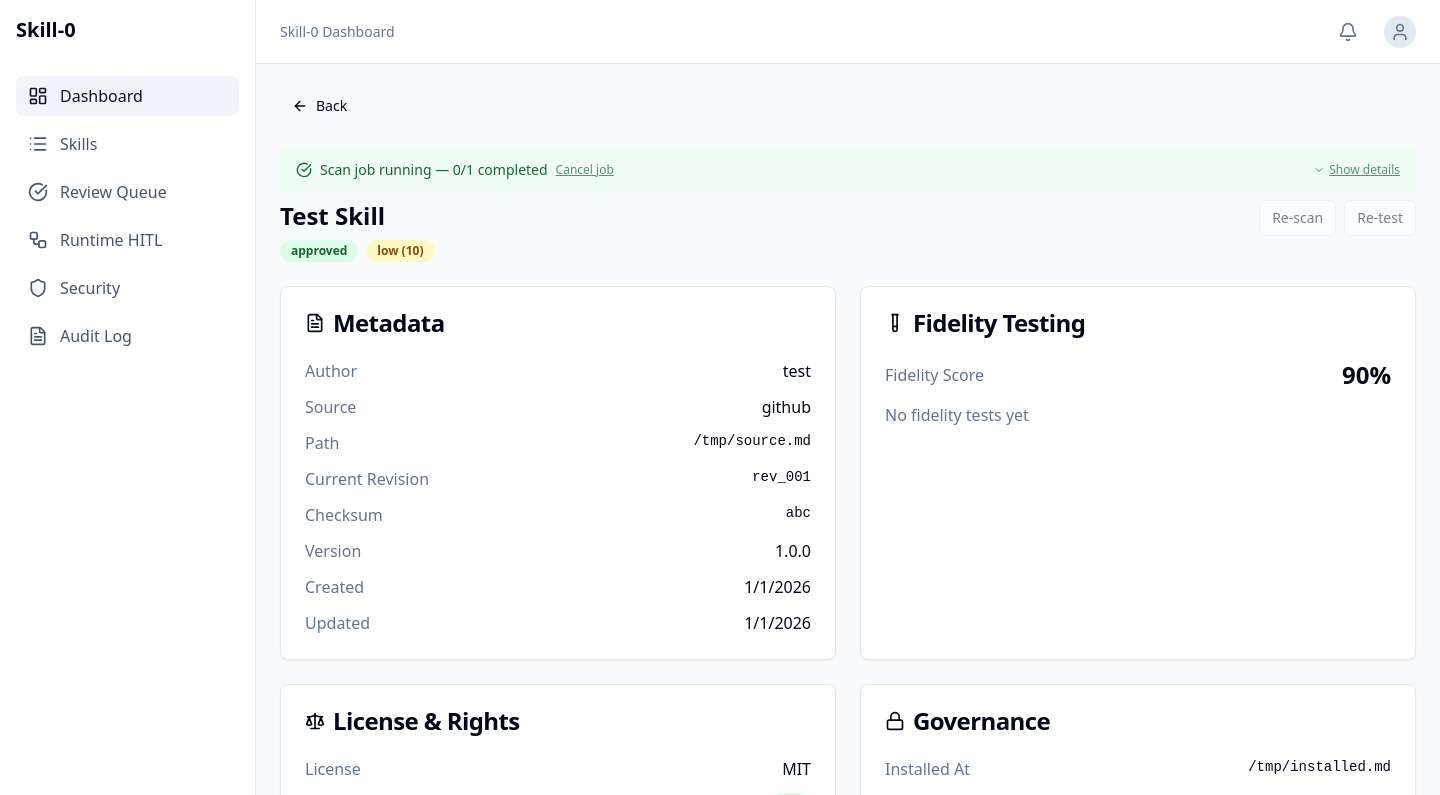
Test: SkillDetail async action jobs › cancels an active job from the detail page
Click the button "Cancel job" at (585, 170), box [556,162,614,178]
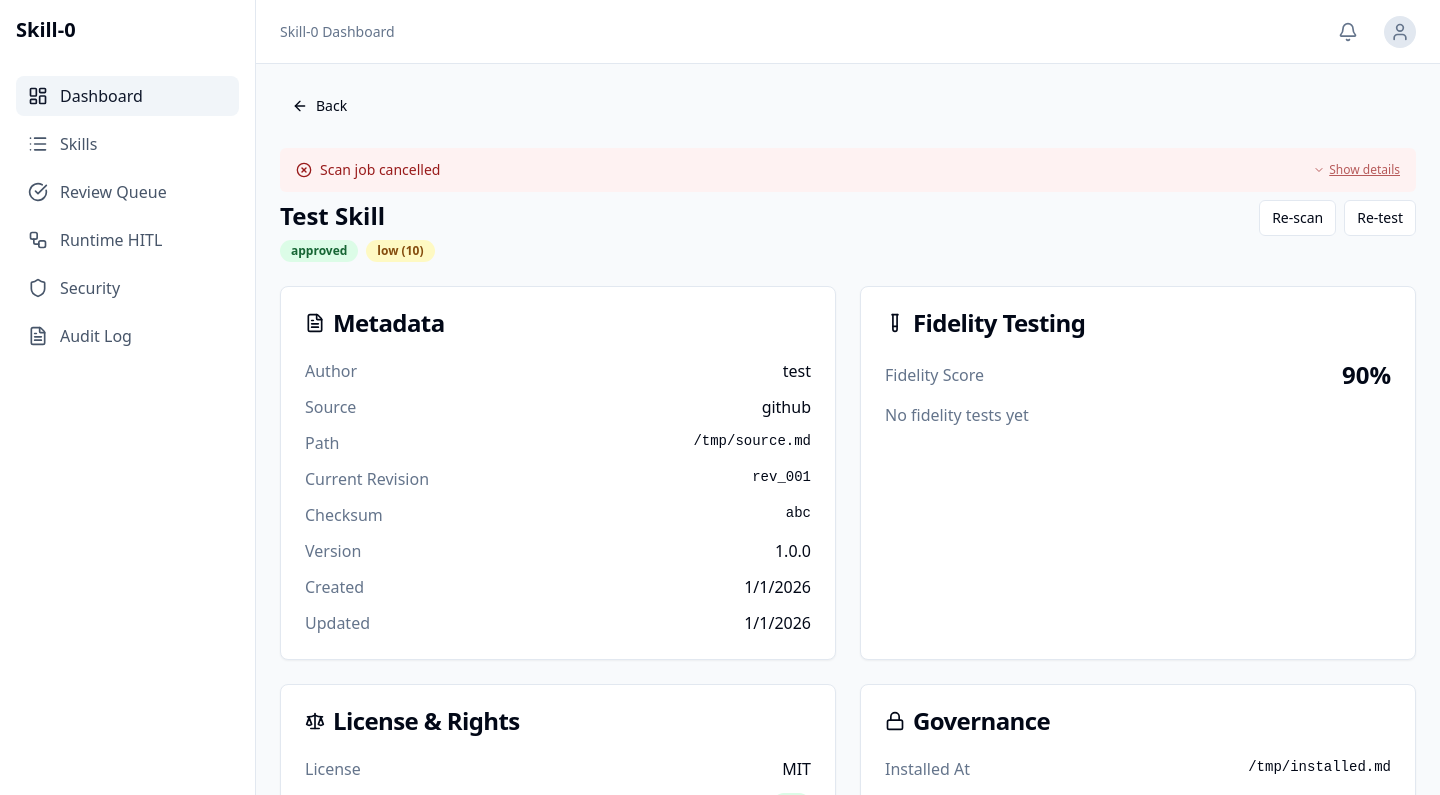
Now the text "Scan job cancelled" is shown, box [320,160,440,179]
